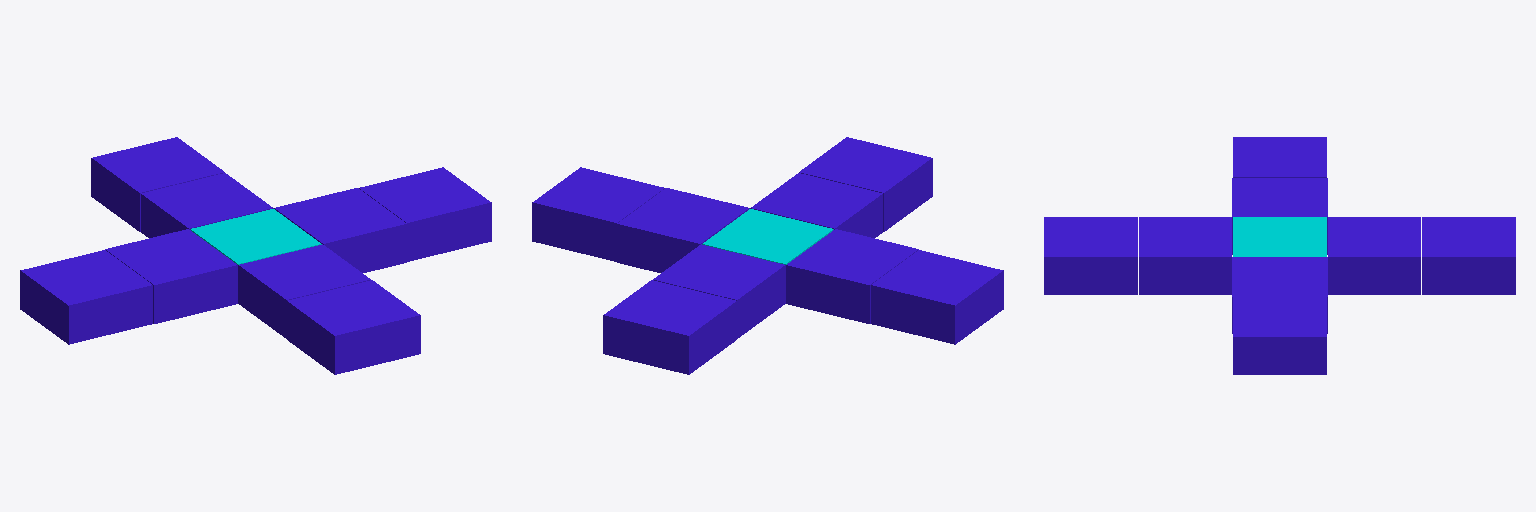
The robot description file, URDF, robot "snake":
<robot name="snake">

	<!-- * * * Link Definitions * * * -->

 	<link name="base_link">
		<visual>
		    <origin xyz="0 0 0" rpy="0 0 0"/>
         
			<geometry>
				<box size=".67 .67 .3"/>
			</geometry>
			<material name="c">
	       		<color rgba="0 0.9 0.9 1.0"/>
	     	</material>
		</visual>	

    <collision>
      <origin xyz="0 0 0" rpy="0 0 0"/>
      <geometry>
        <box size=".67 .67 .3"/>
      </geometry>
      </collision>

	</link>

	<link name="arm1">
		<visual>
		    <origin xyz="0 .34 0" rpy="0 0 0"/>
			<geometry>
				<box size=".68 .67 .3"/>
			</geometry>
			<material name="Cyan1">
	       		<color rgba="0.3 0.15 0.9 1.0"/>
	     	</material>
		</visual>	

		<collision>
			<geometry>
				<box size=".68 .67 .3"/>
			</geometry>
      </collision>
	</link>

	<link name="body1">
		<visual>
		    <origin xyz="0 .34 0" rpy="0 0 0"/>
			<geometry>
				<box size=".688 .67 .3"/>
			</geometry>
			<material name="Cyan1">
	       		<color rgba="0.3 0.15 0.9 1.0"/>
	     	</material>
		</visual>	

		<collision>
				<origin xyz="0 .34 0" rpy="0 0 0"/>
			<geometry>
				<box size=".688 .67 .3"/>
			</geometry>
      </collision>
	</link>

	<link name="body3">
		<visual>
		    <origin xyz=".34 0 0" rpy="0 0 0"/>
			<geometry>
				<box size=".67 .688 .3"/>
			</geometry>
			<material name="Cyan1">
	       		<color rgba="0.3 0.15 0.9 1.0"/>
	     	</material>
		</visual>	

		<collision>
		<origin xyz=".34 0 0" rpy="0 0 0"/>
			<geometry>
				<box size=".67 .688 .3"/>
			</geometry>
      </collision>
	</link>

	<link name="arm3">
		<visual>
		    <origin xyz=".34 0 0" rpy="0 0 0"/>
			<geometry>
				<box size=".68 .67 .3"/>
			</geometry>
			<material name="Cyan1">
	       		<color rgba="0.3 0.15 0.9 1.0"/>
	     	</material>
		</visual>	

		<collision>
		<origin xyz=".34 0 0" rpy="0 0 0"/>
			<geometry>
				<box size=".68 .67 .3"/>
			</geometry>
      </collision>
	</link>

	<link name="arm2">
		<visual>
		    <origin xyz="0 -.34 0" rpy="0 0 0"/>
			<geometry>
				<box size=".68 .67 .3"/>
			</geometry>
			<material name="Cyan1">
	       		<color rgba="0.3 0.15 0.9 1.0"/>
	     	</material>
		</visual>	

		<collision>
		<origin xyz="0 -.34 0" rpy="0 0 0"/>
			<geometry>
				<box size=".68 .67 .3"/>
			</geometry>
      </collision>
	</link>

	<link name="body2">
		<visual>
		    <origin xyz="0 -.34 0" rpy="0 0 0"/>
			<geometry>
				<box size=".688 .67 .3"/>
			</geometry>
			<material name="Cyan1">
	       		<color rgba="0.3 0.15 0.9 1.0"/>
	     	</material>
		</visual>	

		<collision>
		<origin xyz="0 -.34 0" rpy="0 0 0"/>
			<geometry>
				<box size=".68 .67 .3"/>
			</geometry>
      </collision>
	</link>

	<link name="body4">
		<visual>
		    <origin xyz="-.34 0 0" rpy="0 0 0"/>
			<geometry>
				<box size=".67 .688 .3"/>
			</geometry>
			<material name="Cyan1">
	       		<color rgba="0.3 0.15 0.9 1.0"/>
	     	</material>
		</visual>	

		<collision>
		<origin xyz="-.34 0 0" rpy="0 0 0"/>
			<geometry>
				<box size=".67 .688 .3"/>
			</geometry>
      </collision>
	</link>

	<link name="arm4">
		<visual>
		    <origin xyz="-.34 0 0" rpy="0 0 0"/>
			<geometry>
				<box size=".68 .67 .3"/>
			</geometry>
			<material name="Cyan1">
	       		<color rgba="0.3 0.15 0.9 1.0"/>
	     	</material>
		</visual>	

		<collision>
		<origin xyz="-.34 0 0" rpy="0 0 0"/>
			<geometry>
				<box size=".68 .67 .3"/>
			</geometry>
      </collision>
	</link>

  	<joint name="joint1" type="fixed">
    <parent link="base_link"/>
    <child link="arm1"/>
    <origin xyz="0.0 0.34 0"/>
    <axis xyz="1 0 0"/>
	<limit lower="-1" upper="1.0" effort="0.0" velocity="0.0"/> 
  	</joint>

	<joint name="joint2" type="revolute">
    <parent link="arm1"/>
    <child link="body1"/>
    <origin xyz="0.0 0.68 0"/>
    <axis xyz="1 0 0"/>
	<limit lower="-1" upper="1.0" effort="0.0" velocity="0.0"/>
	</joint>

	<joint name="joint3" type="fixed">
    <parent link="base_link"/>
    <child link="arm2"/>
    <origin xyz="0.0 -0.34 0"/>
    <axis xyz="1 0 0"/>
	<limit lower="-1" upper="1.0" effort="0.0" velocity="0.0"/> 
  	</joint>

	<joint name="joint4" type="revolute">
    <parent link="arm2"/>
    <child link="body2"/>
    <origin xyz="0.0 -0.68 0"/>
    <axis xyz="1 0 0"/>
	<limit lower="-1" upper="1.0" effort="0.0" velocity="0.0"/> 
  	</joint>

	<joint name="joint5" type="fixed">
    <parent link="base_link"/>
    <child link="body3"/>
    <origin xyz="0.34 0 0"/>
    <axis xyz="0 1 0"/>
	<limit lower="-1" upper="1.0" effort="0.0" velocity="0.0"/> 
  	</joint>

	<joint name="joint6" type="revolute">
    <parent link="body3"/>
    <child link="arm3"/>
    <origin xyz="0.68 0 0"/>
    <axis xyz="0 1 0"/>
	<limit lower="-1" upper="1.0" effort="0.0" velocity="0.0"/> 
  	</joint>

	<joint name="joint7" type="fixed">
    <parent link="base_link"/>
    <child link="body4"/>
    <origin xyz="-0.34 0 0"/>
    <axis xyz="0 1 0"/>
	<limit lower="-1" upper="1.0" effort="0.0" velocity="0.0"/> 
  	</joint>

	<joint name="joint8" type="revolute">
    <parent link="body4"/>
    <child link="arm4"/>
    <origin xyz="-0.68 0 0"/>
    <axis xyz="0 1 0"/>
	<limit lower="-1" upper="1.0" effort="0.0" velocity="0.0"/> 
  	</joint>

</robot>

--- What the picture shows (computed from the rendered views, not written in the file) ---
Views: 3 orthographic renders of the robot side by side, from view 1: azimuth 30°, elevation 25°; view 2: azimuth 150°, elevation 25°; view 3: azimuth 270°, elevation 25°.
Model snake with 9 links and 8 joints (4 revolute, 4 fixed), rooted at base_link, posed every joint at zero.
Links seen in each view (by area): view 1: body2, arm4, body4, arm3, body3, body1, arm2, arm1, base_link; view 2: body1, arm4, body4, arm3, body3, body2, arm1, arm2, base_link; view 3: body1, arm3, body2, arm1, arm2, body3, arm4, body4, base_link.
Boxes of the visible links, left/top/right/bottom form: body2: left=287, top=280, right=420, bottom=374; arm4: left=20, top=250, right=152, bottom=344; body4: left=105, top=229, right=237, bottom=323; arm3: left=359, top=167, right=491, bottom=261; body3: left=274, top=188, right=406, bottom=272; body1: left=91, top=137, right=224, bottom=231; arm2: left=238, top=244, right=370, bottom=338; arm1: left=141, top=173, right=273, bottom=237; base_link: left=190, top=209, right=321, bottom=264; body1: left=603, top=280, right=736, bottom=374; arm4: left=871, top=250, right=1003, bottom=344; body4: left=786, top=229, right=918, bottom=323; arm3: left=532, top=167, right=664, bottom=261; body3: left=617, top=188, right=749, bottom=272; body2: left=799, top=137, right=932, bottom=231; arm1: left=653, top=244, right=785, bottom=338; arm2: left=750, top=173, right=882, bottom=237; base_link: left=702, top=209, right=833, bottom=264; body1: left=1422, top=217, right=1515, bottom=294; arm3: left=1233, top=297, right=1326, bottom=374; body2: left=1044, top=217, right=1137, bottom=294; arm1: left=1328, top=217, right=1420, bottom=294; arm2: left=1139, top=217, right=1231, bottom=294; body3: left=1232, top=257, right=1327, bottom=333; arm4: left=1233, top=137, right=1326, bottom=177; body4: left=1232, top=178, right=1327, bottom=254; base_link: left=1233, top=217, right=1326, bottom=256.
Size in the robot's own frame: 3.4 by 3.39 by 0.3 metres.
Geometry: primitives only (box / cylinder / sphere), no mesh files.